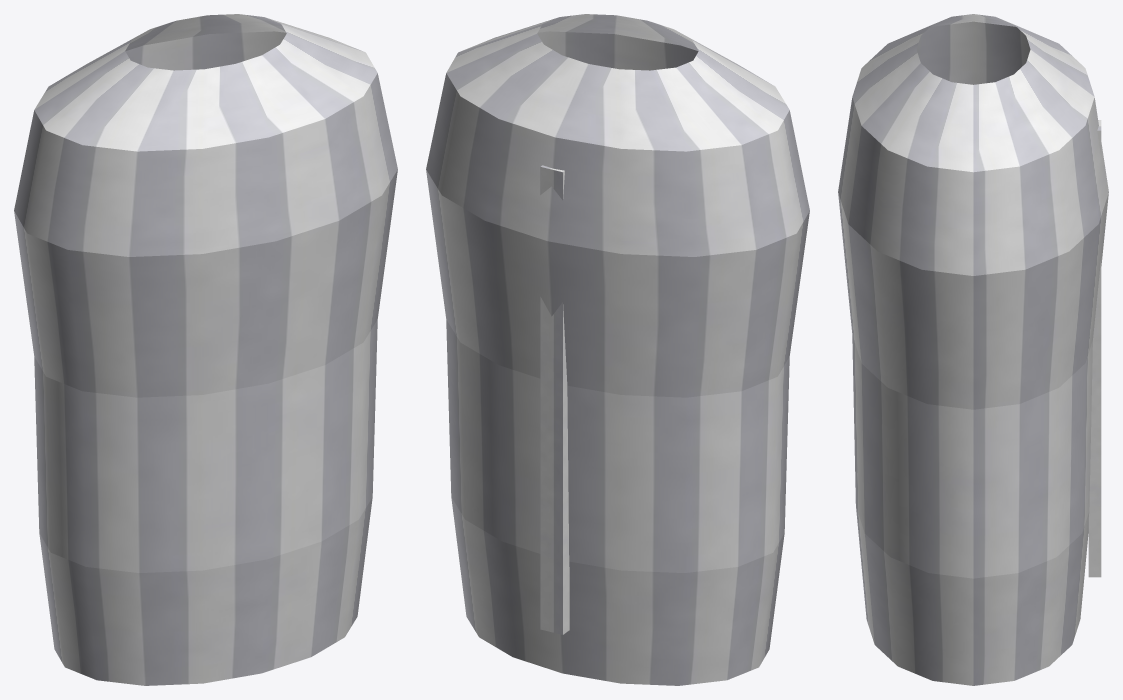
The model's file is char_resident_torso.obj.
3 renders of one model, left to right at view 1: azimuth 30°, elevation 25°; view 2: azimuth 150°, elevation 25°; view 3: azimuth 270°, elevation 25°, orthographic. The views are drawn at different scales.
Visible parts, largest first — view 1: char_resident_torso; view 2: char_resident_torso; view 3: char_resident_torso.
Part boxes in pixels (x1,y1,x2,y2): char_resident_torso: [14, 14, 397, 685]; char_resident_torso: [426, 14, 809, 685]; char_resident_torso: [838, 14, 1108, 685].
Bounding box in the file's own units: 0.38 × 0.6 × 0.2584.
1 material, 1 textured.
